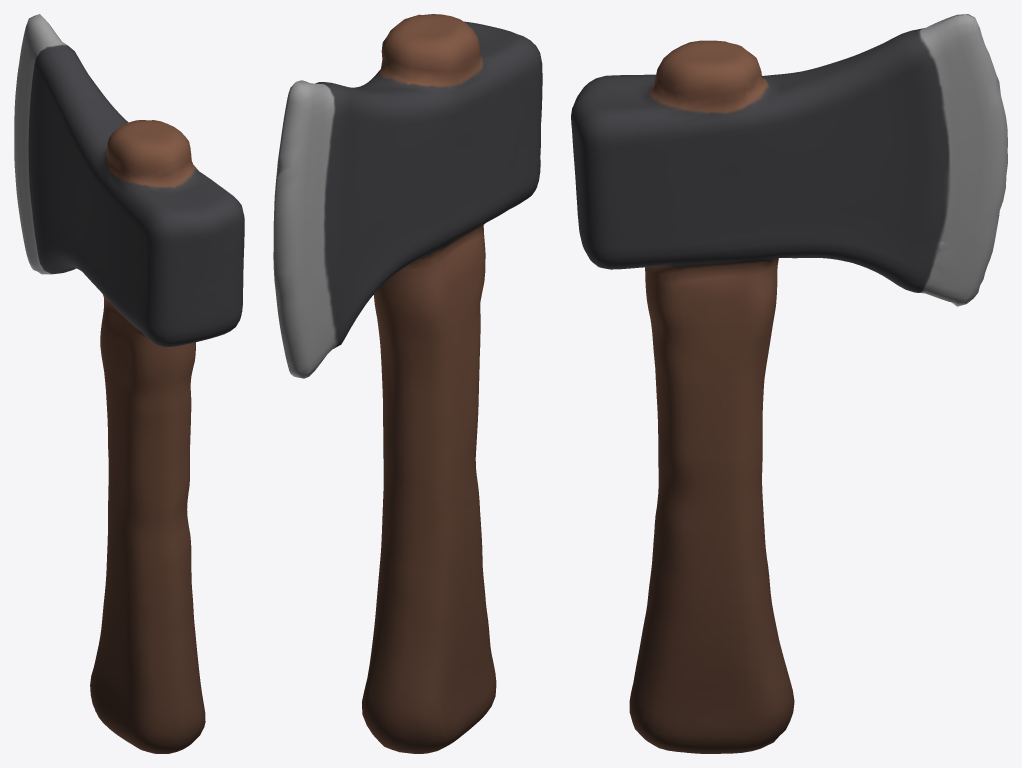
Rendered from Axe.fbx.
3 renders of one model, left to right at view 1: azimuth 30°, elevation 25°; view 2: azimuth 150°, elevation 25°; view 3: azimuth 270°, elevation 25°, orthographic. The views are drawn at different scales.
Parts seen in each view (by area): view 1: LOW; view 2: LOW; view 3: LOW.
Boxes of the visible parts, box(x1,y1,x2,y2) form: LOW: box(14, 14, 244, 753); LOW: box(273, 14, 542, 753); LOW: box(571, 14, 1007, 753).
Bounding box in the file's own units: 0.2602 × 1.72 × 0.9264.
Materials: 1 (1 with a texture image).
